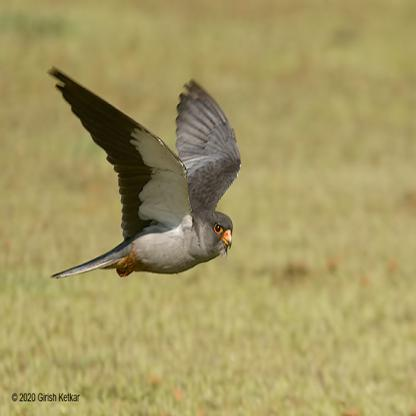Burung: (44, 61, 242, 282)
